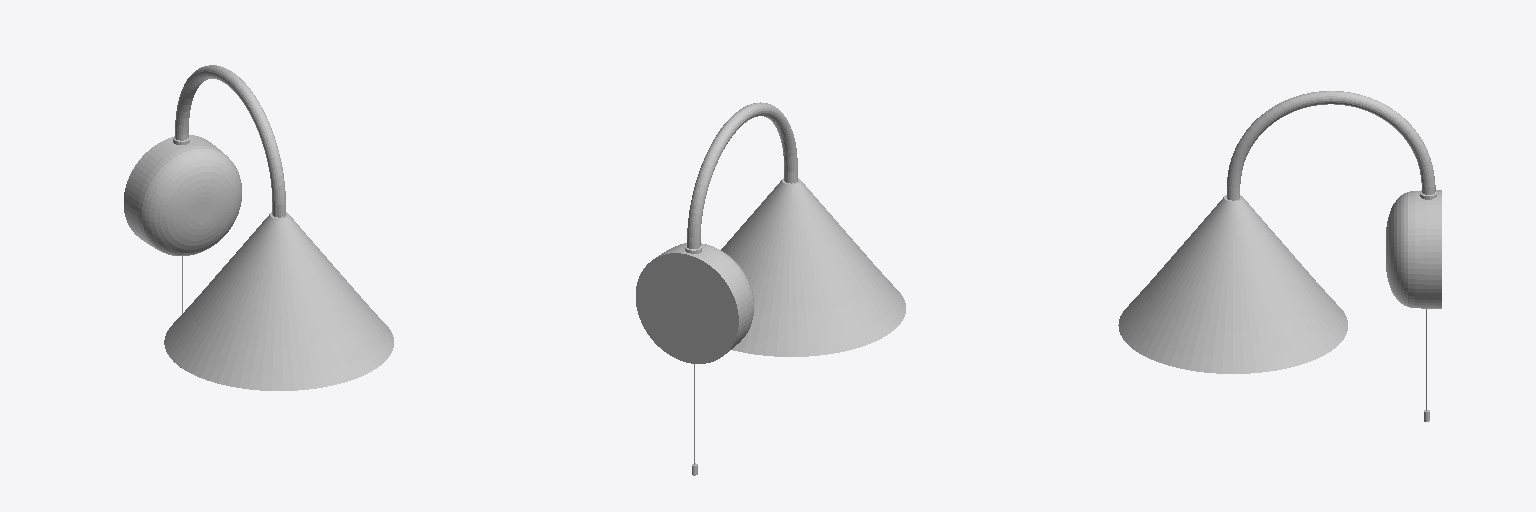
The model's file is wall_lamp.obj.
3 views of the same model, side by side, from view 1: azimuth 30°, elevation 25°; view 2: azimuth 150°, elevation 25°; view 3: azimuth 270°, elevation 25° (orthographic).
Visible parts, largest first — view 1: lamp_Cylinder.004; view 2: lamp_Cylinder.004; view 3: lamp_Cylinder.004.
Part boxes in pixels (left/top/right/bottom): lamp_Cylinder.004: left=124, top=65, right=393, bottom=390; lamp_Cylinder.004: left=636, top=102, right=905, bottom=475; lamp_Cylinder.004: left=1118, top=91, right=1441, bottom=421.
Bounding box in the file's own units: 0.1957 × 0.3091 × 0.2749.